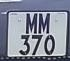0: (43, 34, 57, 56)
3: (17, 33, 32, 57)
7: (30, 35, 45, 56)
M: (24, 12, 39, 36), (38, 11, 52, 36)
